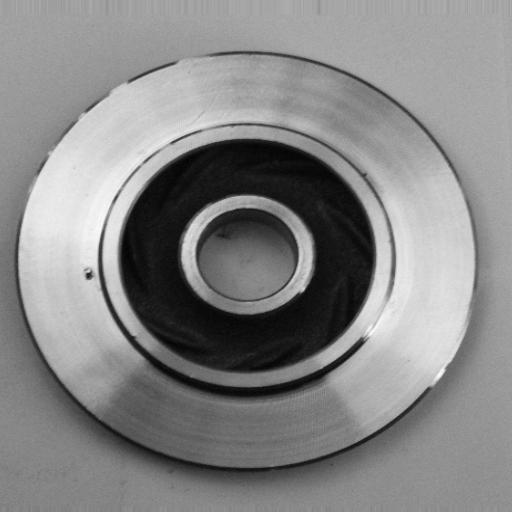crack: (78, 261, 102, 294)
scratch: (415, 280, 479, 414), (358, 290, 398, 351)
unpolished_casting: (18, 46, 481, 476)
